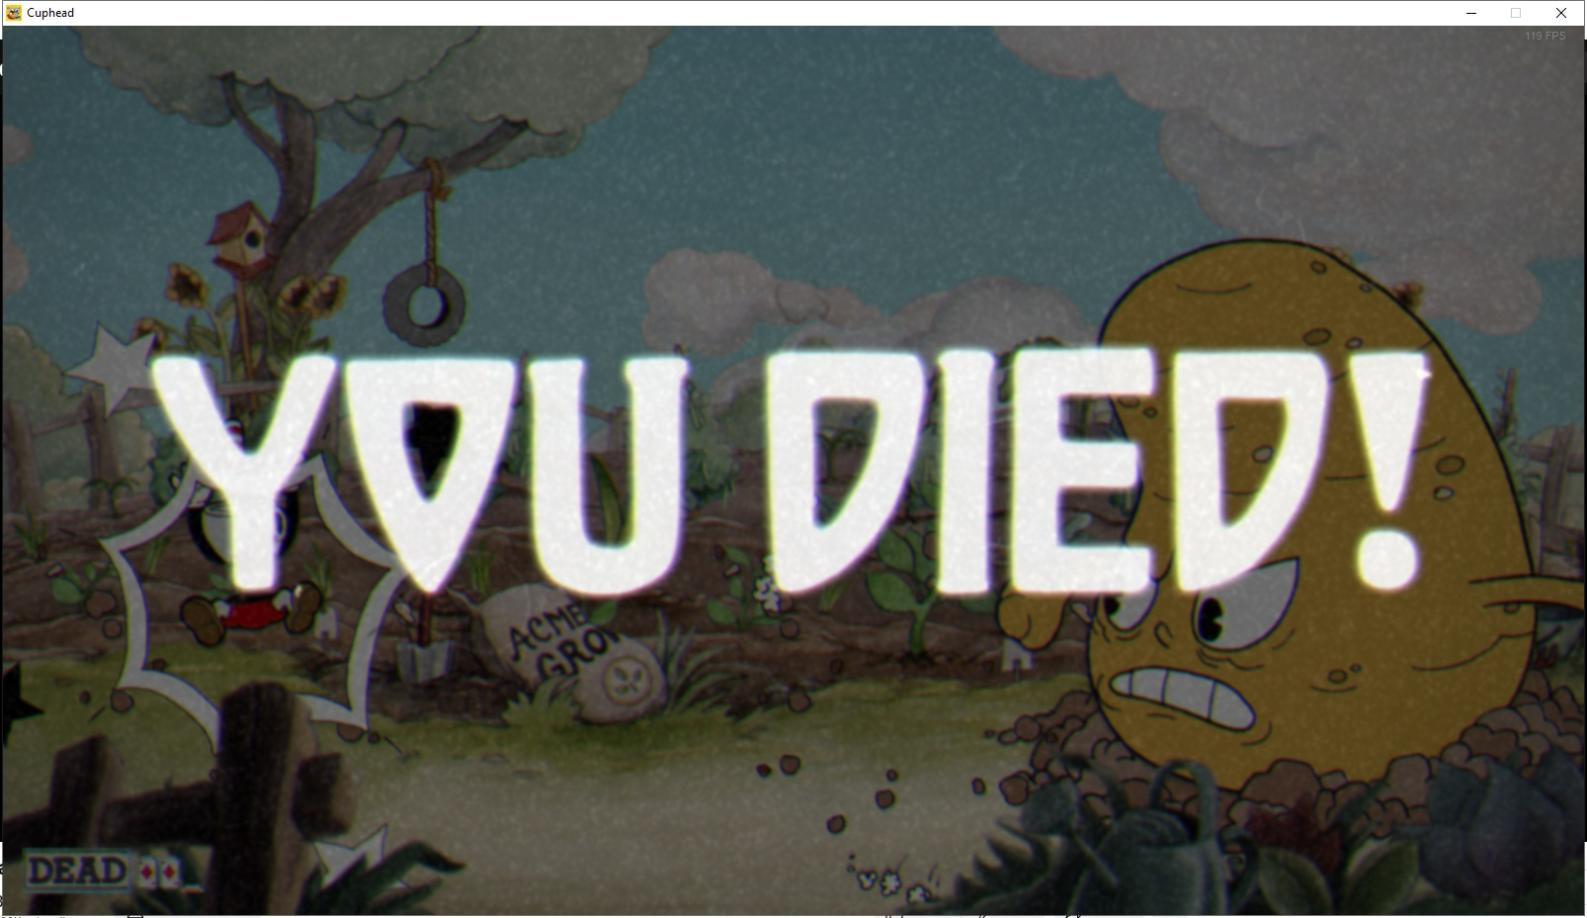dead: (28, 848, 131, 896)
player: (184, 473, 334, 653)
potato_boss: (1089, 231, 1543, 805)
